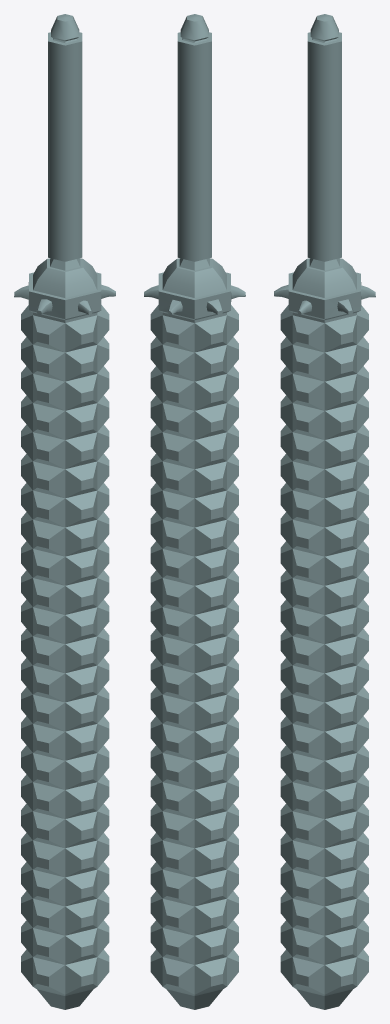
The model's file is club.fbx.
3 views of the same model, side by side, from view 1: azimuth 30°, elevation 25°; view 2: azimuth 210°, elevation 25°; view 3: azimuth 330°, elevation 25° (orthographic).
Visible parts, largest first — view 1: geo_club_low; view 2: geo_club_low; view 3: geo_club_low.
Part boxes in pixels (x1=…): geo_club_low: x1=14, y1=14, x2=115, y2=1009; geo_club_low: x1=144, y1=14, x2=245, y2=1009; geo_club_low: x1=274, y1=14, x2=375, y2=1009.
Bounding box in the file's own units: 12.07 × 143 × 13.33.
